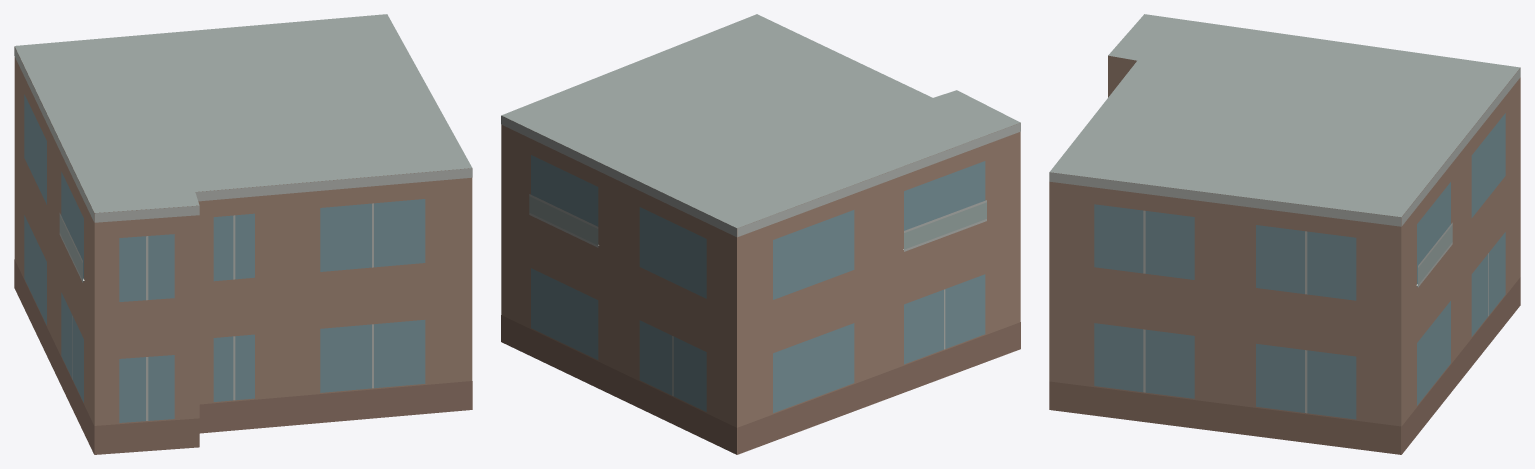
Rendered from survey-upis-32880217.glb.
The picture shows the model from 3 angles, left to right: view 1: azimuth 30°, elevation 25°; view 2: azimuth 150°, elevation 25°; view 3: azimuth 270°, elevation 25°; orthographic projection. The views are drawn at different scales.
Visible parts, largest first — view 1: survey-upis-32880217.tmp; view 2: survey-upis-32880217.tmp; view 3: survey-upis-32880217.tmp.
Part boxes in pixels (box(x1,y1,x2,y2)): survey-upis-32880217.tmp: box(14, 14, 472, 454); survey-upis-32880217.tmp: box(501, 14, 1020, 454); survey-upis-32880217.tmp: box(1049, 14, 1520, 454).
Bounding box in the file's own units: 11.2 × 6.1 × 10.97.
